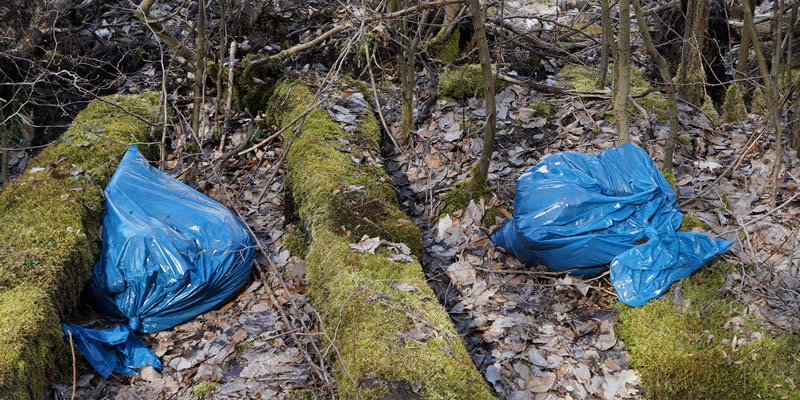plastic_bagwdw: (484, 105, 768, 377), (38, 108, 290, 400)
